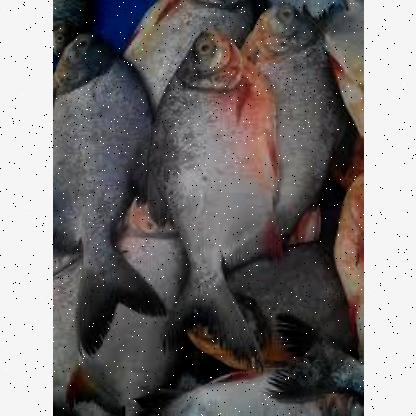ikan-pacu: (160, 32, 271, 310), (52, 27, 154, 315)
